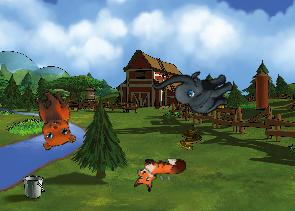bear: (20, 85, 83, 155)
elephant: (151, 48, 239, 132)
fox: (133, 156, 186, 192)
